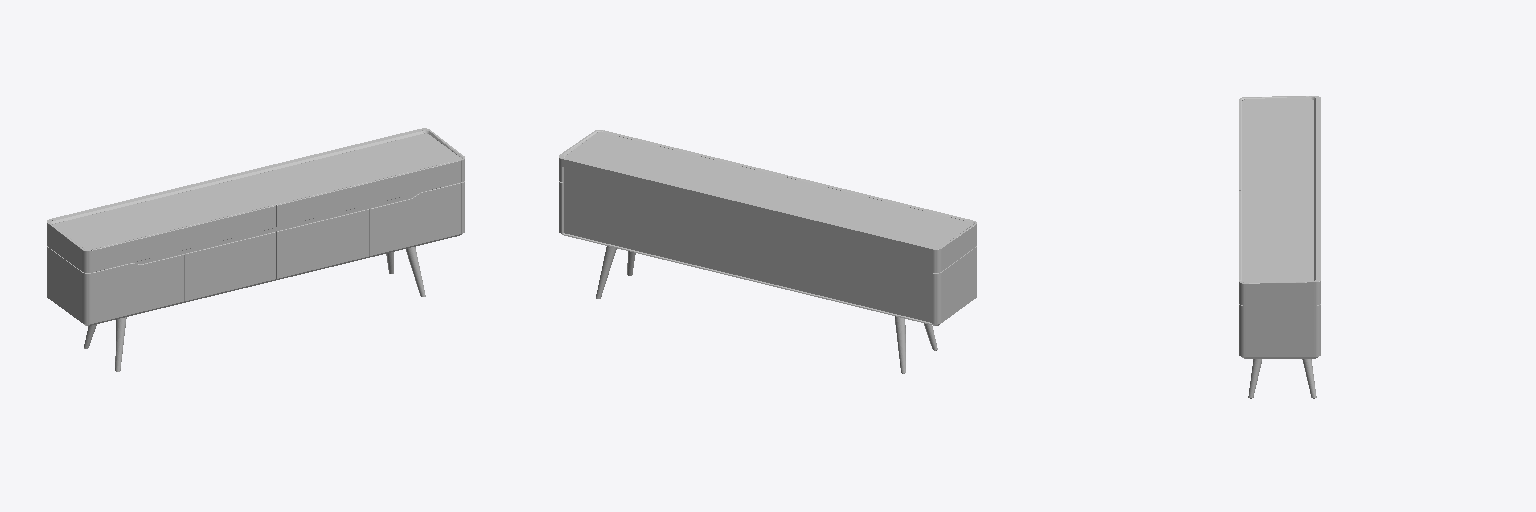
3 views of the same model, side by side, from view 1: azimuth 30°, elevation 25°; view 2: azimuth 150°, elevation 25°; view 3: azimuth 270°, elevation 25° (orthographic).
Visible parts, largest first — view 1: PR42; view 2: PR42; view 3: PR42.
Boxes of the visible parts, x1,y1,x2,y2 form: PR42: [47, 128, 464, 371]; PR42: [559, 130, 976, 373]; PR42: [1239, 96, 1320, 398].
Size of the model in its own units: 2400 by 805 by 450.